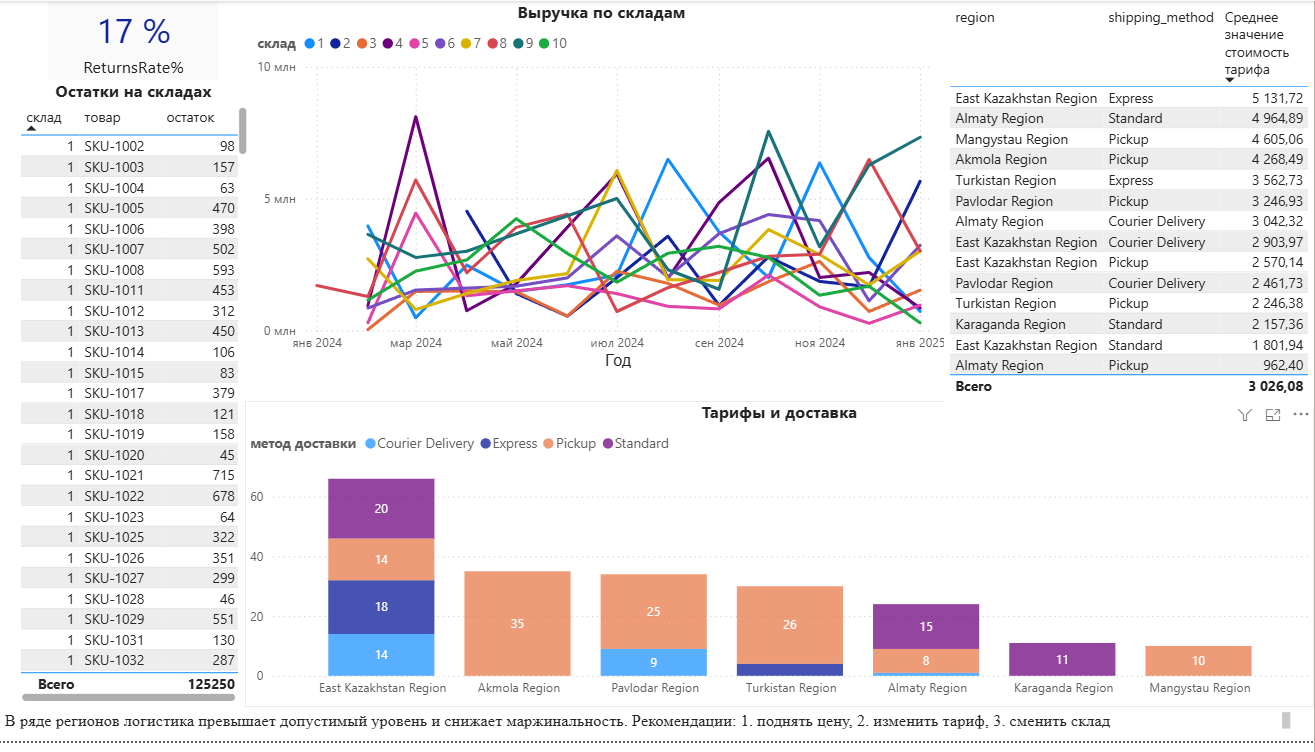

This screenshot's page, from the dashboard's own definition file:
{"tool":"powerbi","page":{"name":"Логистика и склады","canvas":[1280,720],"ordinal":1},"visuals":[{"type":"tableEx","title":"Остатки на складах","fields":{"Values":["Student public_stocks.warehouse_id","Student nomenclature_reference.sku","Sum(Student public_stocks.stock_id)"]},"box":[16.5,76.8,230.5,609.8],"z":0},{"type":"lineChart","title":"Выручка по складам","fields":{"Category":["Student public_revenue_wb.date.Изменение.Иерархия дат.Год","Student public_revenue_wb.date.Изменение.Иерархия дат.Месяц"],"Y":["Sum(Student public_revenue_wb.revenue_amount)"],"Series":["Student public_revenue_wb.warehouse_id"]},"box":[247.1,0,679.9,363.8],"z":1000},{"type":"columnChart","title":"Тарифы и доставка","fields":{"Category":["Student tariffs_and_shipping.region"],"Y":["Sum(Student tariffs_and_shipping.tariff_id)"],"Series":["Student tariffs_and_shipping.shipping_method"]},"box":[240.2,389.1,1039.8,297.6],"z":2000},{"type":"card","fields":{"Values":["Student public_order_status.ReturnsRate%"]},"box":[48.6,0,166.3,76.8],"z":2002},{"type":"tableEx","fields":{"Values":["Student tariffs_and_shipping.region","Student tariffs_and_shipping.shipping_method","Avg(Student tariffs_and_shipping.стоимость тарифа)"]},"box":[920.1,0,359.9,396.8],"z":2004},{"type":"textbox","box":[1.9,686.7,1259.6,26.3],"z":2005}]}

Visuals, with their boxes in screenshot pixels (x1, y1, x2, y2), scaled from the page's 1280x720 canvas onto the 1315x752 screenshot:
"Остатки на складах" tableEx: detection(17, 80, 254, 717)
"Выручка по складам" lineChart: detection(254, 0, 952, 380)
"Тарифы и доставка" columnChart: detection(247, 406, 1314, 717)
card - Student public_order_status.ReturnsRate%: detection(50, 0, 221, 80)
tableEx - Student tariffs_and_shipping.region x Student tariffs_and_shipping.shipping_method: detection(945, 0, 1314, 414)
textbox: detection(2, 717, 1296, 745)
